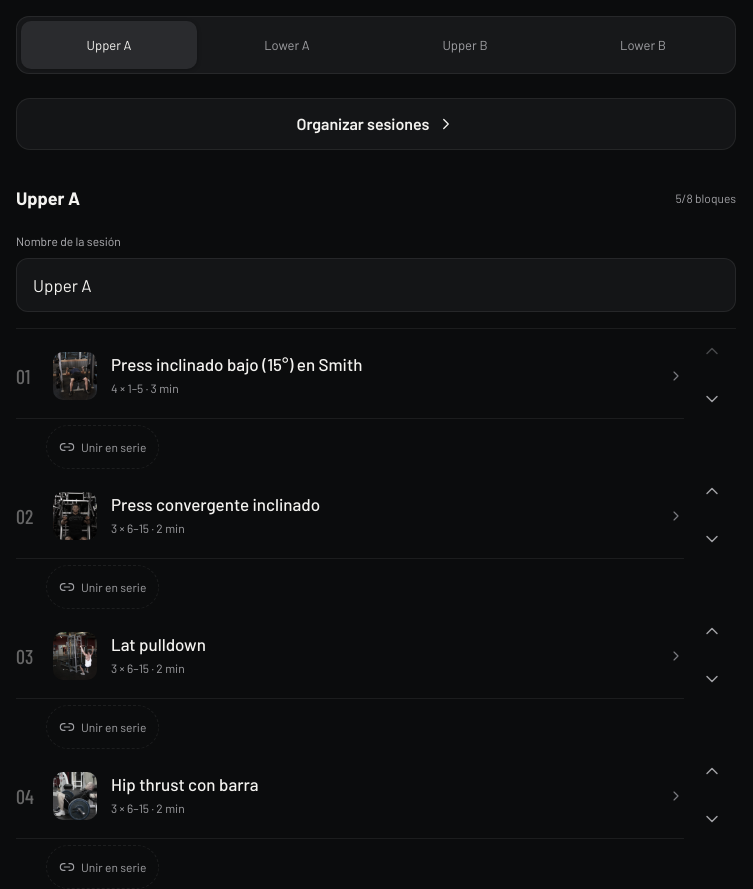
Test case: bi-series y tri-series › agrupar no deja la sesión incompleta: 5 ejercicios en 4 bloques se pueden publicar
Click the 1st button "Unir en serie".
click(103, 447)  # box [46, 425, 159, 469]
(page scrolled)
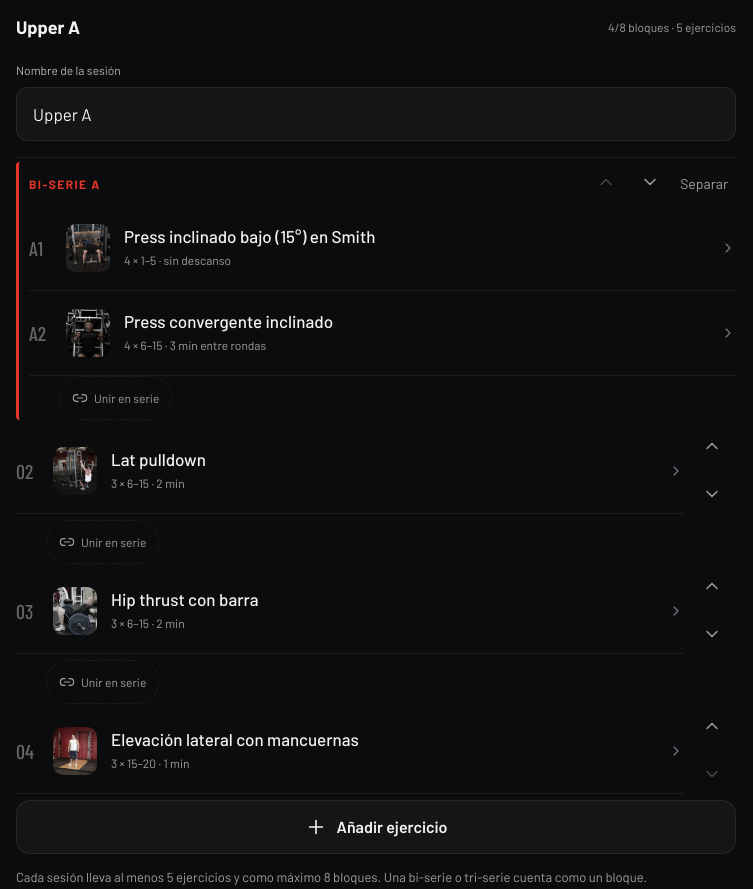
Expected: the text "Cada sesión lleva al menos 5 ejercicios" is shown, [16, 869, 647, 885]
Result: the text "4/8 bloques · 5 ejercicios" is shown at [608, 20, 736, 34]
